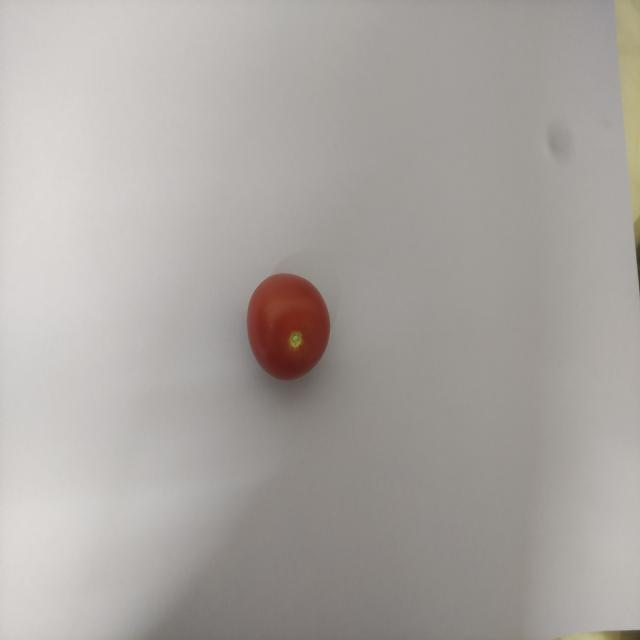kirmizi: (236, 258, 348, 398)
